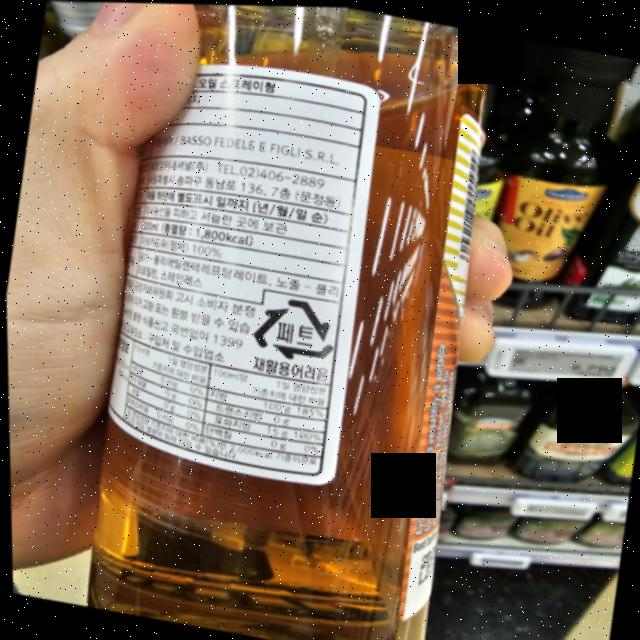PET: (248, 290, 341, 368)
